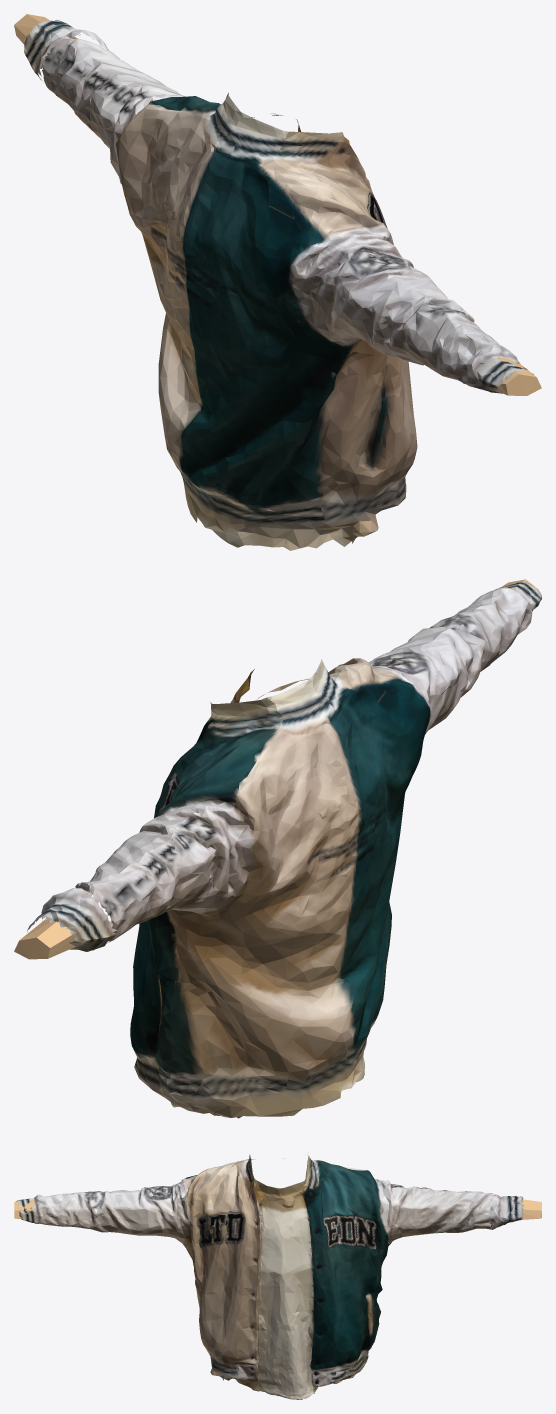
File: LimitedJacket.glb
3 views of the same model, one above another, from view 1: azimuth 30°, elevation 25°; view 2: azimuth 150°, elevation 25°; view 3: azimuth 270°, elevation 25° (orthographic). The views are drawn at different scales.
Parts seen in each view (by area): view 1: Torso; view 2: Torso; view 3: Torso.
Part boxes in pixels (x1,y1,x2,y2): Torso: [14, 14, 541, 550]; Torso: [14, 579, 541, 1118]; Torso: [14, 1154, 541, 1399].
Size of the model in its own units: 0.4605 by 0.8988 by 1.96.
Materials: 2 (1 with a texture image).
